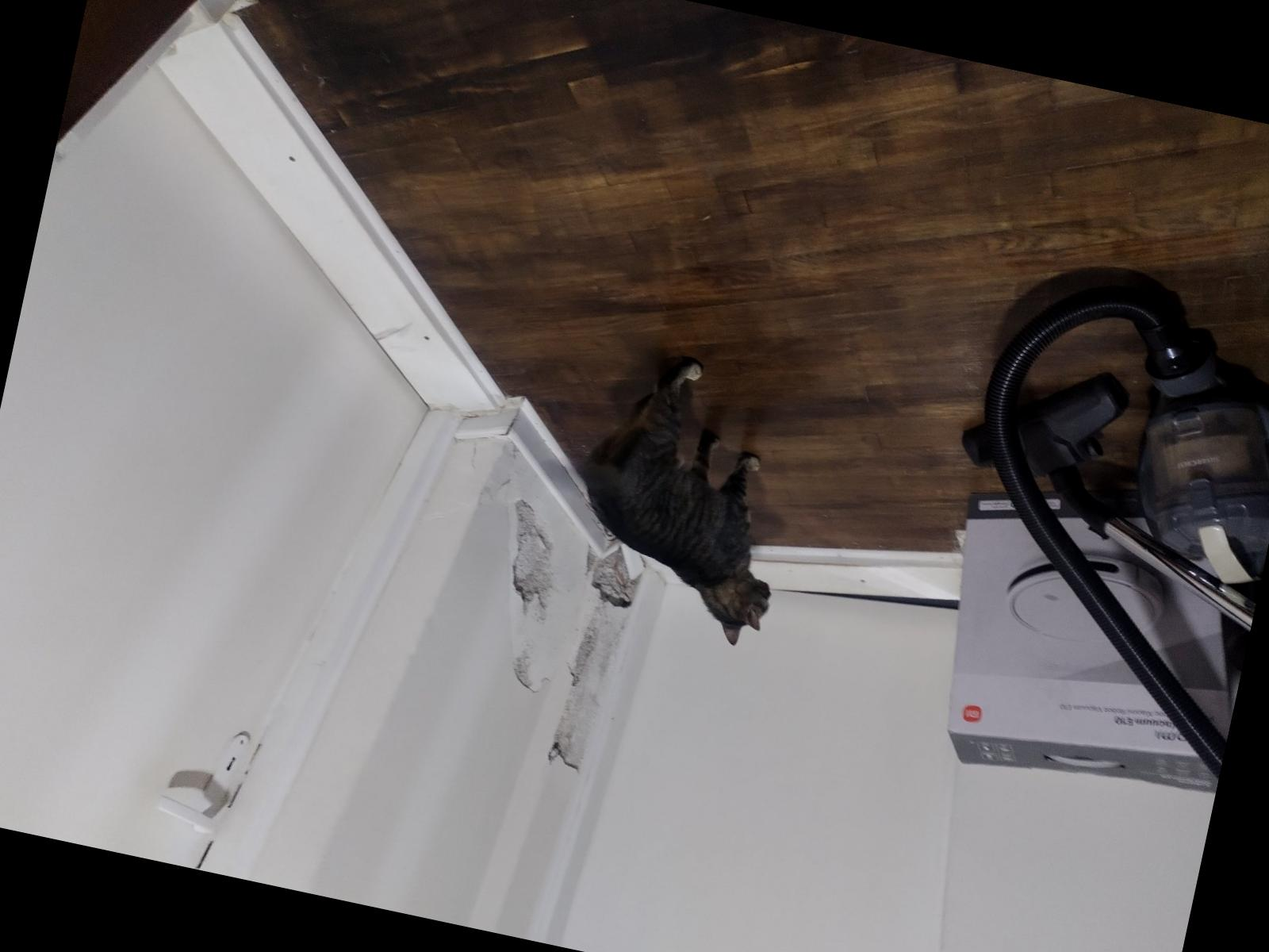macka: (553, 343, 817, 653)
